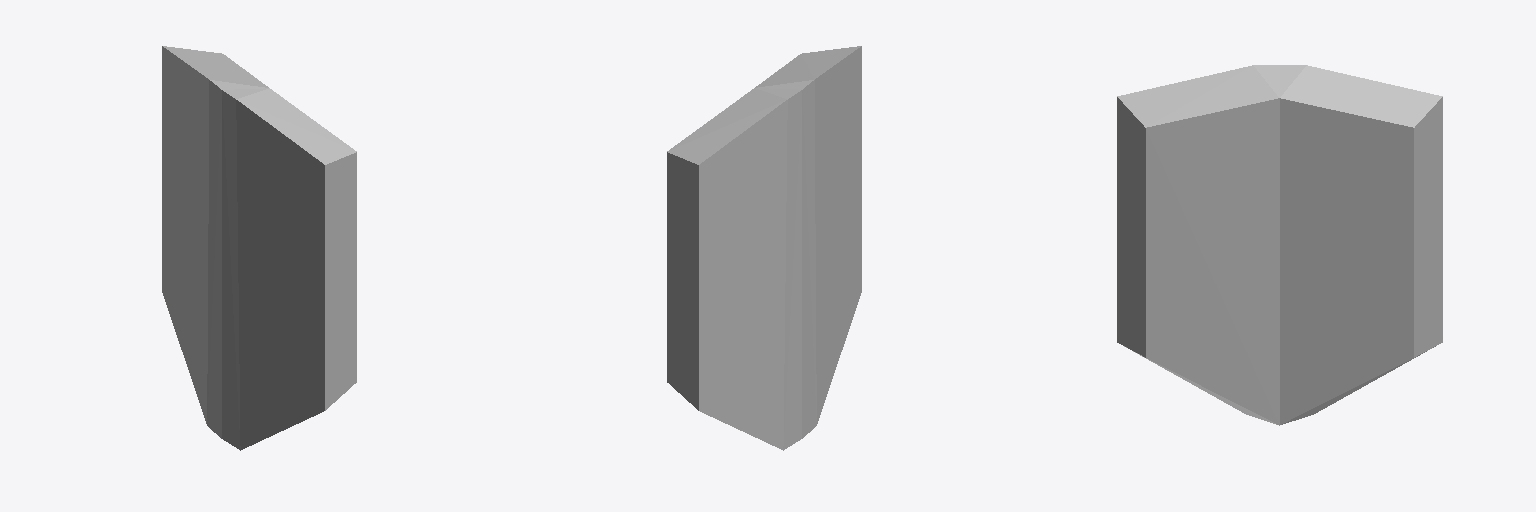
File: Model_Armor.obj
3 renders of one model, left to right at view 1: azimuth 30°, elevation 25°; view 2: azimuth 150°, elevation 25°; view 3: azimuth 270°, elevation 25°, orthographic.
Visible parts, largest first — view 1: Cube; view 2: Cube; view 3: Cube.
Boxes of the visible parts, x1=… form: Cube: x1=162, y1=46, x2=356, y2=450; Cube: x1=667, y1=46, x2=861, y2=450; Cube: x1=1117, y1=65, x2=1442, y2=425.
Bounding box in the file's own units: 0.1723 × 0.8396 × 0.7106.